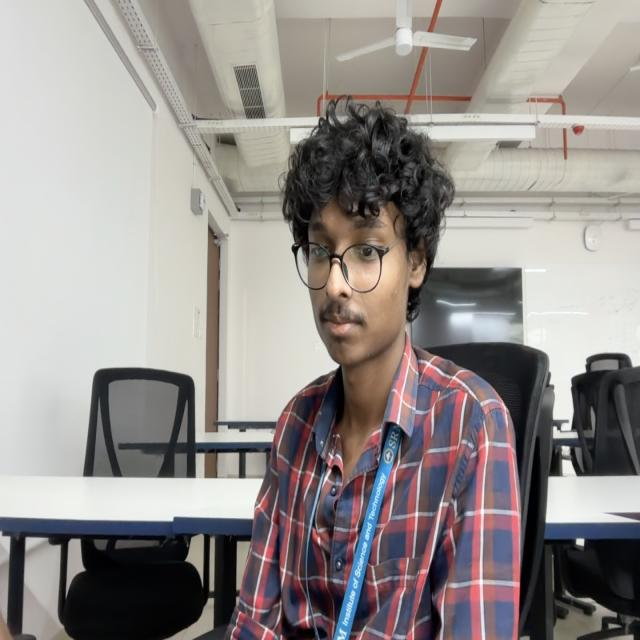darshan: (281, 106, 449, 358)
